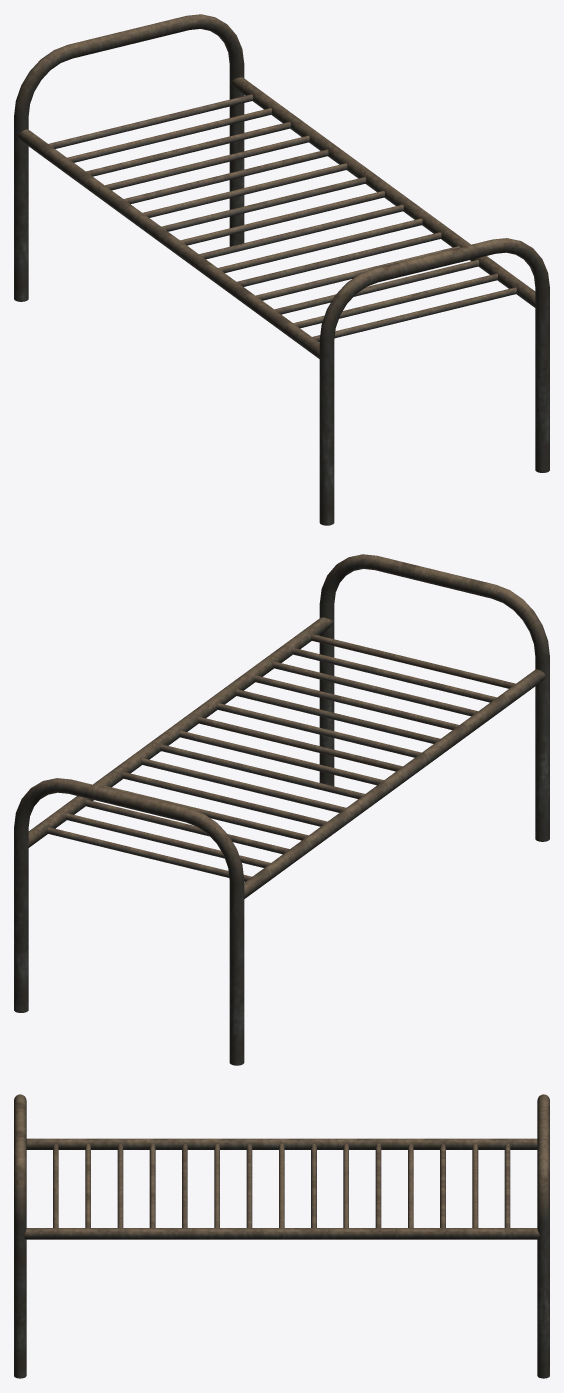
The model's file is BedFrame.fbx.
3 views of the same model, one above another, from view 1: azimuth 30°, elevation 25°; view 2: azimuth 150°, elevation 25°; view 3: azimuth 270°, elevation 25° (orthographic). The views are drawn at different scales.
Parts seen in each view (by area): view 1: Bed_frame_Frames_0.001; view 2: Bed_frame_Frames_0.001; view 3: Bed_frame_Frames_0.001.
Part boxes in pixels (x1,y1,x2,y2): Bed_frame_Frames_0.001: (14,14,549,525); Bed_frame_Frames_0.001: (14,554,549,1065); Bed_frame_Frames_0.001: (14,1094,549,1378).
Size of the model in its own units: 99.96 by 101 by 237.
Materials: 1 (1 with a texture image).
